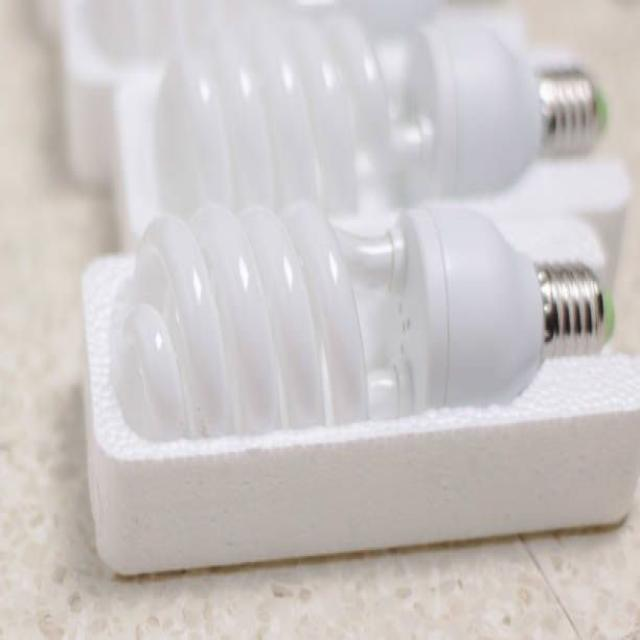electronic: (71, 2, 631, 574), (106, 192, 614, 443), (114, 0, 548, 241)
